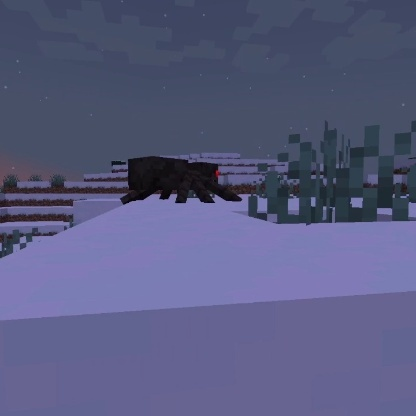spider: (120, 154, 244, 207)
